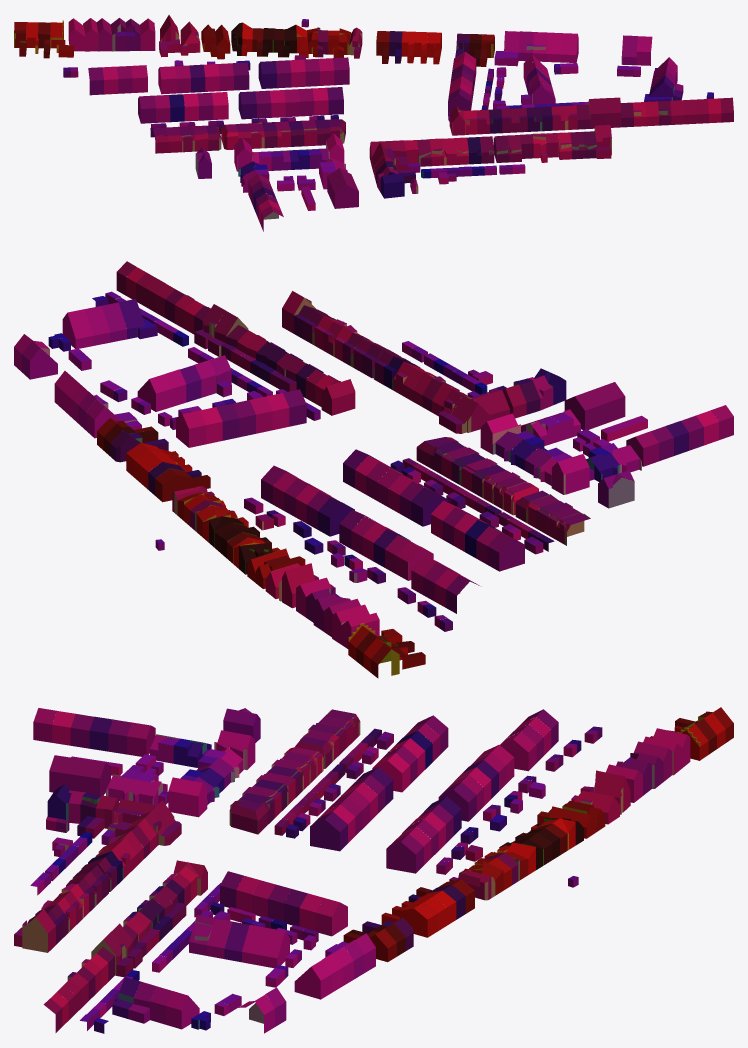
The model's file is buildings_13_13.glb.
3 renders of one model, top to bottom at view 1: azimuth 30°, elevation 25°; view 2: azimuth 150°, elevation 25°; view 3: azimuth 270°, elevation 25°, orthographic. The views are drawn at different scales.
Visible parts, largest first — view 1: buildings_13_13; view 2: buildings_13_13; view 3: buildings_13_13.
Boxes of the visible parts, left/top/right/bottom form: buildings_13_13: left=14, top=15, right=733, bottom=231; buildings_13_13: left=14, top=261, right=733, bottom=678; buildings_13_13: left=14, top=707, right=733, bottom=1033.
Size of the model in its own units: 206 by 10.69 by 204.
